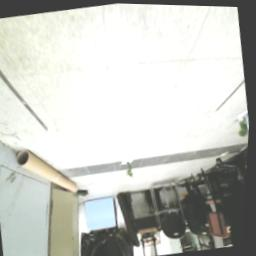herb: (238, 114, 252, 141), (128, 161, 139, 179)
